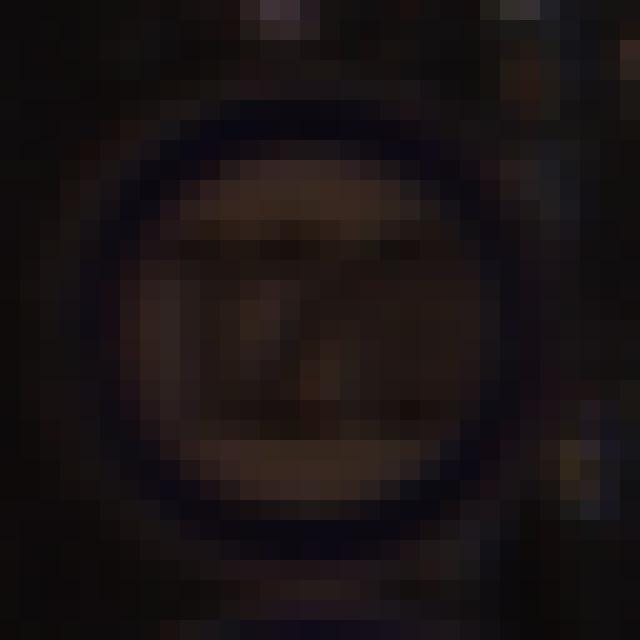SPEED LIMIT 120: (95, 133, 541, 524)
